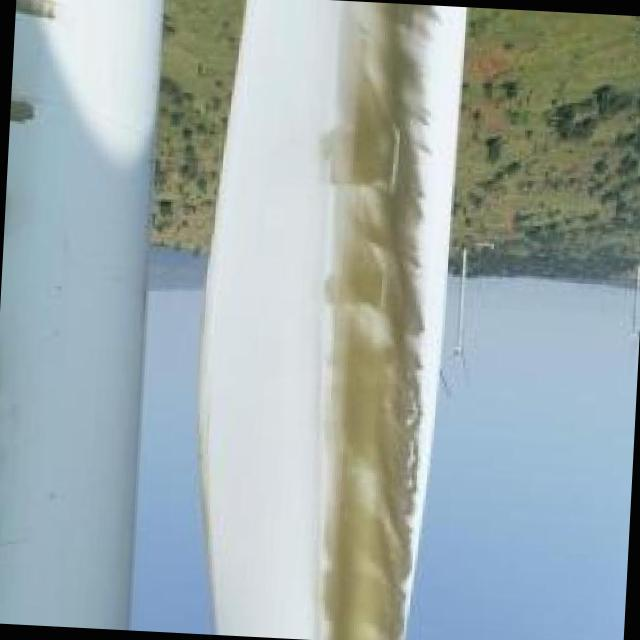Dirt: (314, 1, 429, 640)
